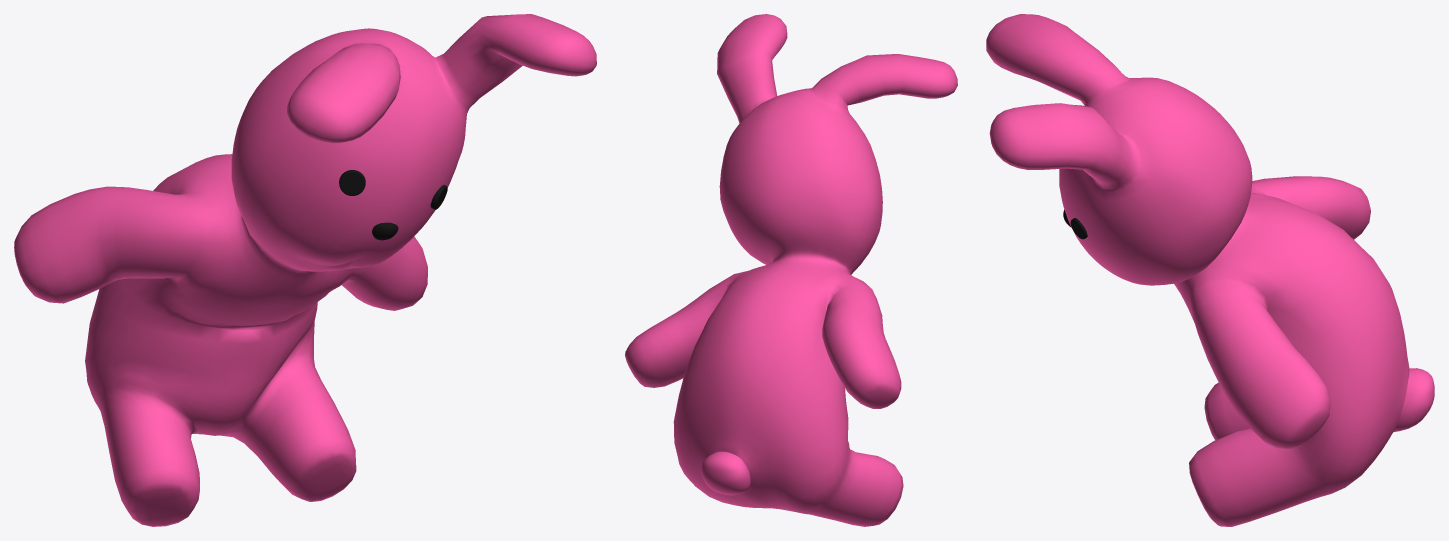
File: RabbitToy.fbx
3 views of the same model, side by side, from view 1: azimuth 30°, elevation 25°; view 2: azimuth 150°, elevation 25°; view 3: azimuth 270°, elevation 25° (orthographic). The views are drawn at different scales.
Visible parts, largest first — view 1: SM_Rabbit_Body; view 2: SM_Rabbit_Body; view 3: SM_Rabbit_Body.
Boxes of the visible parts, <box> form: SM_Rabbit_Body: <box>14,14,596,526</box>; SM_Rabbit_Body: <box>625,14,957,526</box>; SM_Rabbit_Body: <box>986,14,1434,526</box>.
Size of the model in its own units: 1.09 by 1.39 by 1.21.
